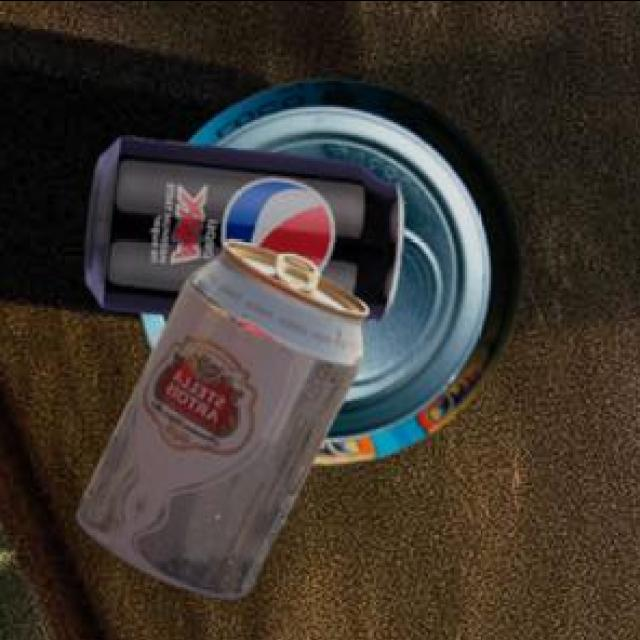logam: (137, 77, 518, 459), (72, 237, 364, 594), (83, 133, 401, 317)
